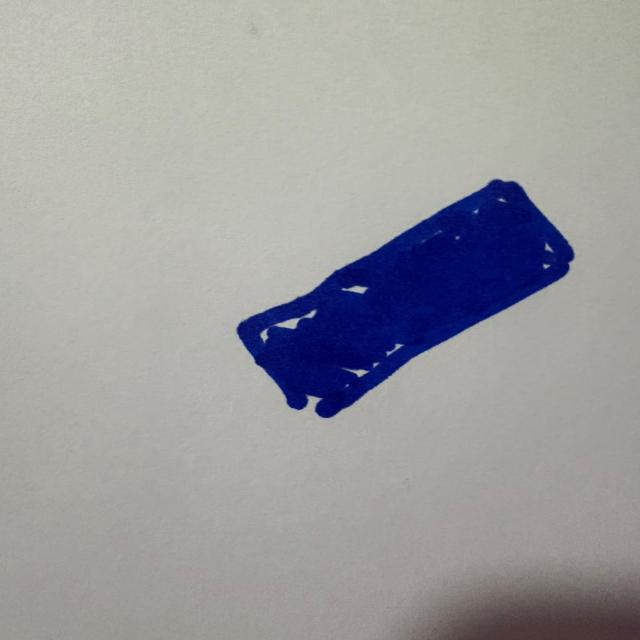Rectangle: (237, 180, 574, 418)
